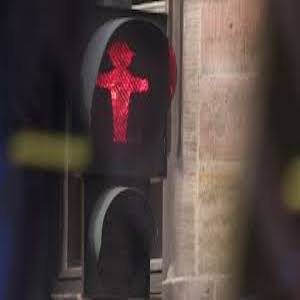red: (98, 38, 144, 153)
